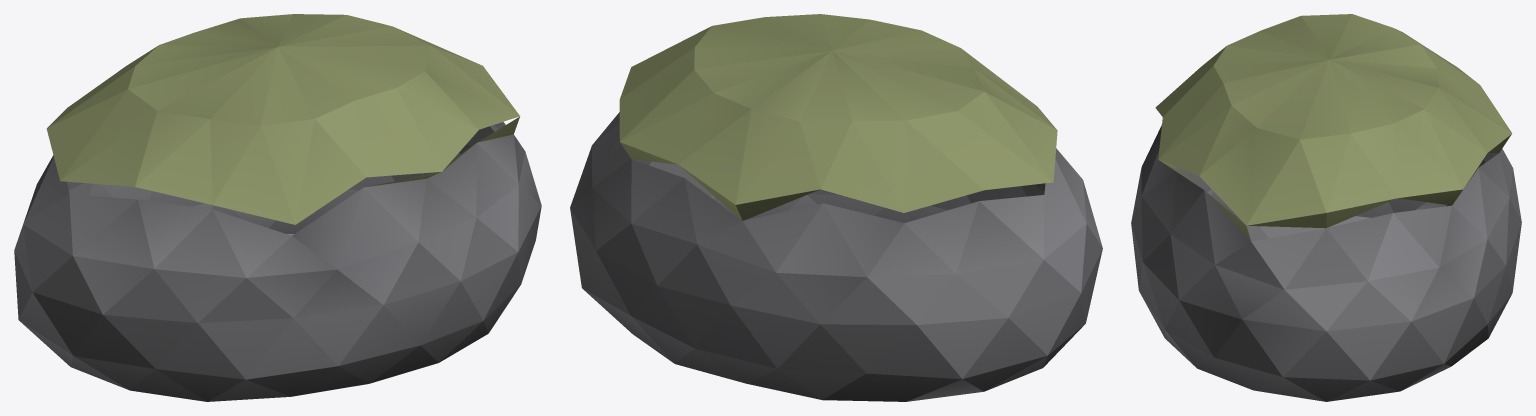
The model's file is fernrock.lod.glb.
3 views of the same model, side by side, from view 1: azimuth 30°, elevation 25°; view 2: azimuth 150°, elevation 25°; view 3: azimuth 270°, elevation 25° (orthographic). The views are drawn at different scales.
Parts seen in each view (by area): view 1: fernrock; view 2: fernrock; view 3: fernrock.
Part boxes in pixels (x1,y1,x2,y2): fernrock: (14, 14, 541, 401); fernrock: (570, 14, 1102, 401); fernrock: (1131, 14, 1521, 401).
Size of the model in its own units: 4 by 2.09 by 3.
